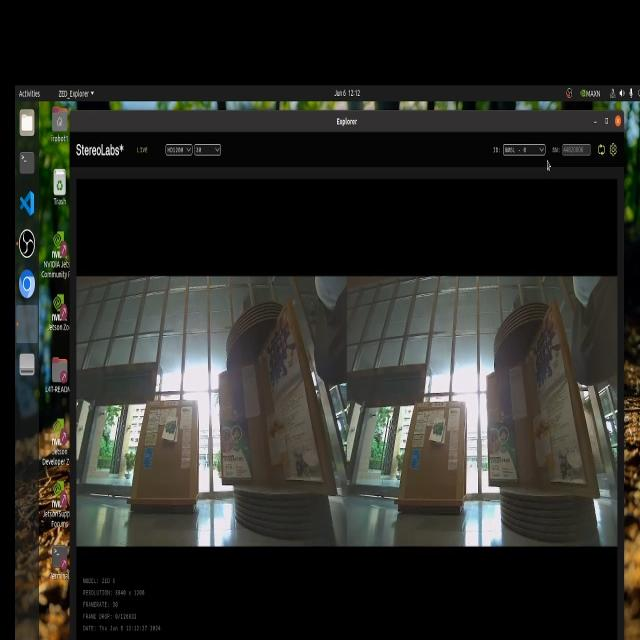green: (165, 423, 184, 439), (434, 419, 444, 447)
